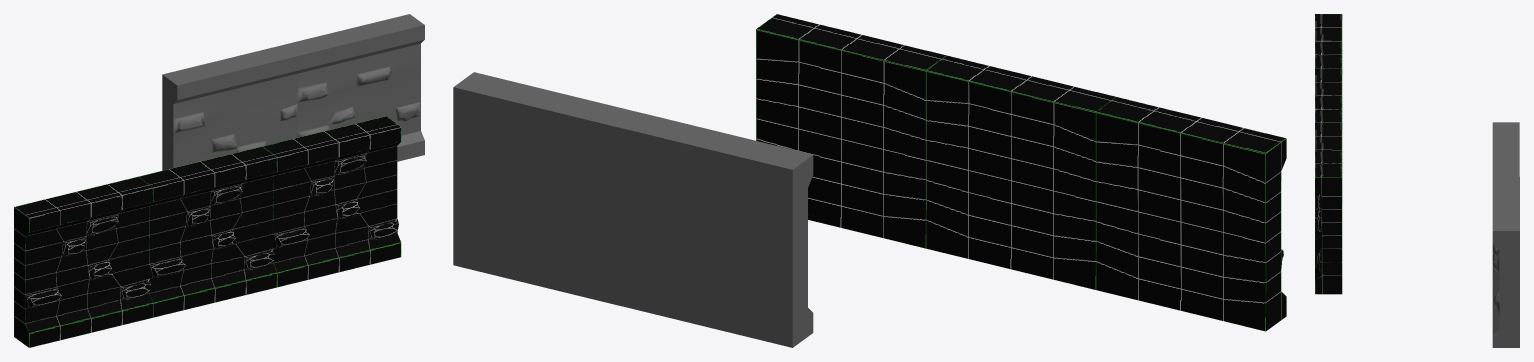
Rendered from Walls.FBX.
3 renders of one model, left to right at view 1: azimuth 30°, elevation 25°; view 2: azimuth 150°, elevation 25°; view 3: azimuth 270°, elevation 25°, orthographic. The views are drawn at different scales.
Parts seen in each view (by area): view 1: Wall 1, Wall 3, Wall 2; view 2: Wall 1, Wall 2, Wall 3; view 3: Wall 1, Wall 3, Wall 2.
Part boxes in pixels (x1,y1,x2,y2): Wall 1: [14, 116, 401, 347]; Wall 3: [286, 14, 424, 161]; Wall 2: [162, 44, 301, 170]; Wall 1: [756, 14, 1286, 331]; Wall 2: [623, 113, 813, 347]; Wall 3: [453, 72, 643, 306]; Wall 1: [1315, 14, 1342, 294]; Wall 3: [1492, 176, 1519, 347]; Wall 2: [1492, 122, 1519, 280].
Bounding box in the file's own units: 313 × 78.74 × 125.
